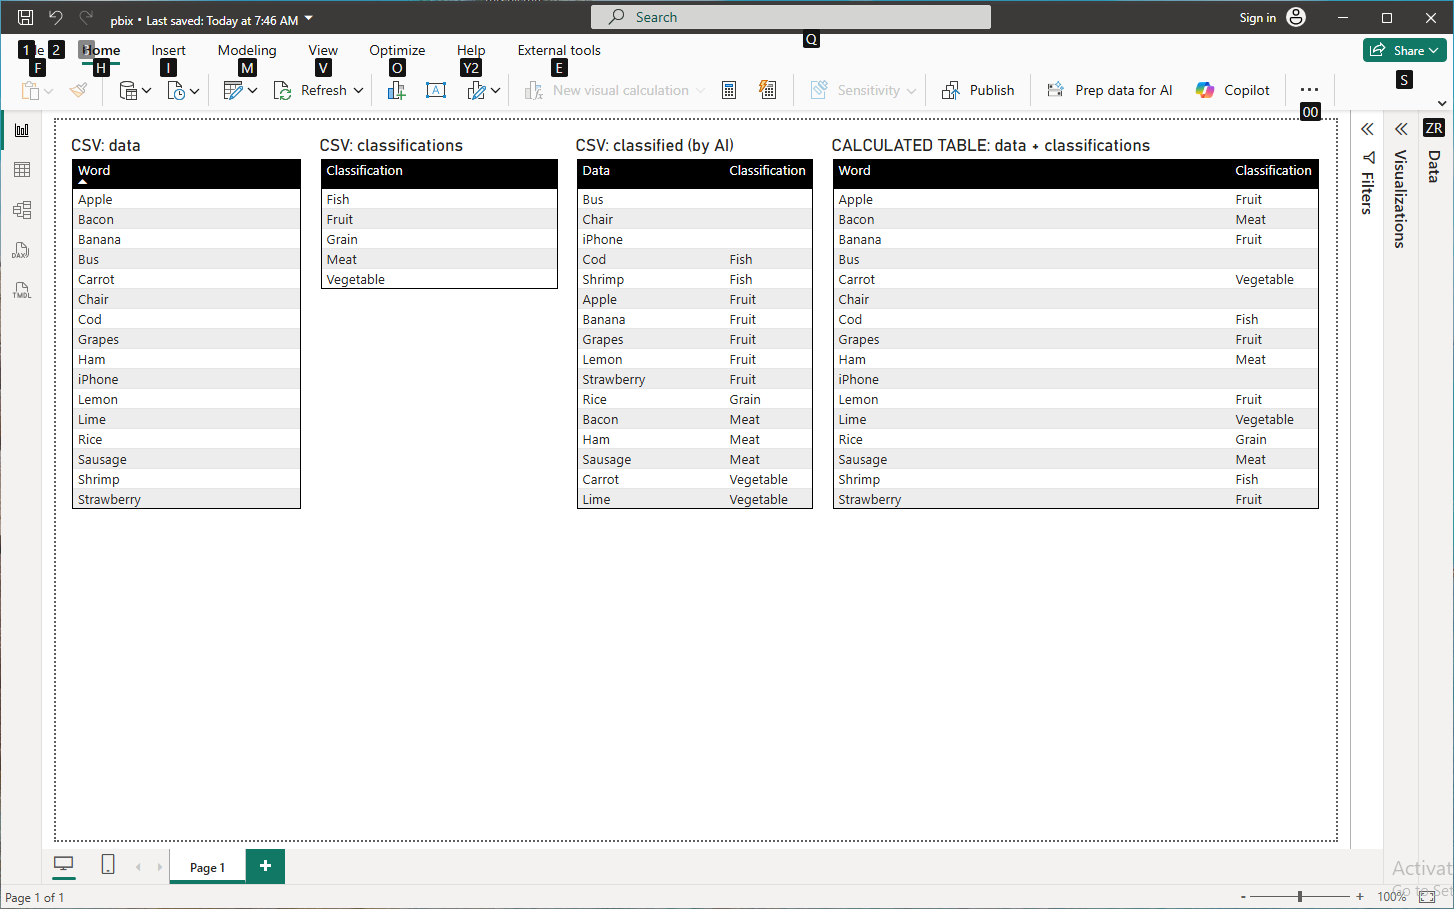

The dashboard page shown, as its layout file describes it:
{"tool":"powerbi","page":{"name":"Page 1","canvas":[1280,720],"ordinal":0},"visuals":[{"type":"tableEx","title":"CSV: data","fields":{"Values":["data.Word"]},"box":[0,0,256,720],"z":0},{"type":"tableEx","title":"CSV: classifications","fields":{"Values":["classifications.Classification"]},"box":[256,0,256,720],"z":1000},{"type":"tableEx","title":"CSV: classified (by AI)","fields":{"Values":["classified.Data","classified.Classification"]},"box":[512,0,256,720],"z":2000},{"type":"tableEx","title":"CALCULATED TABLE: data + classifications","fields":{"Values":["data.Word","classifications.Classification"]},"box":[768,0,512,720],"z":3000}]}

Visuals, with their boxes on the page's 1280x720 design canvas (x1, y1, x2, y2). These are canvas units, not pixel positions in the 1454x909 screenshot, which may show the page scaled, cropped or inside an application window:
"CSV: data" tableEx: bbox(0, 0, 256, 720)
"CSV: classifications" tableEx: bbox(256, 0, 512, 720)
"CSV: classified (by AI)" tableEx: bbox(512, 0, 768, 720)
"CALCULATED TABLE: data + classifications" tableEx: bbox(768, 0, 1280, 720)
